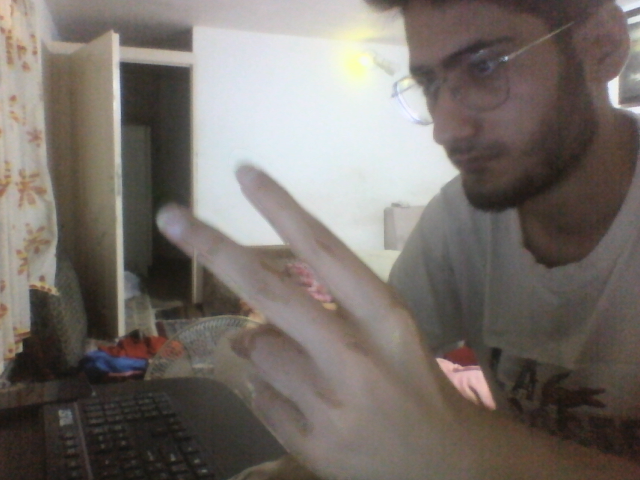Azadi: (89, 121, 471, 480)
sorat: (403, 1, 627, 213)
